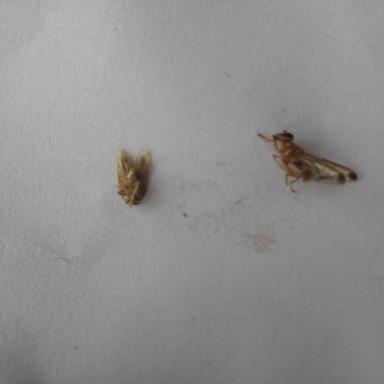abw: (106, 150, 168, 206)
